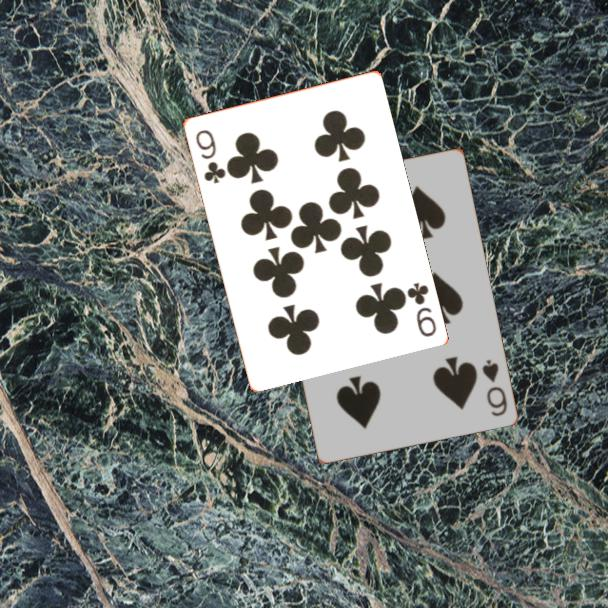c09: (403, 278, 439, 340), (192, 126, 228, 186)
s06: (478, 356, 510, 419)
